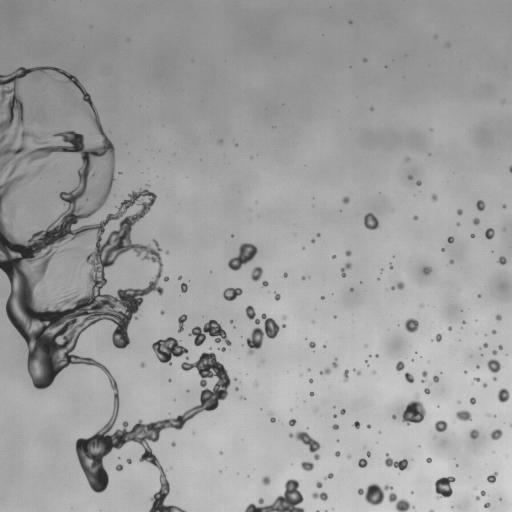droplet: (189, 319, 231, 346), (152, 337, 188, 364), (227, 243, 257, 270), (402, 394, 425, 425), (435, 476, 455, 499), (222, 287, 242, 301), (364, 213, 379, 230), (404, 318, 418, 332), (487, 359, 501, 373), (251, 266, 263, 281), (497, 388, 509, 402), (456, 410, 471, 421), (434, 420, 447, 432), (490, 429, 502, 440), (301, 461, 313, 471), (312, 492, 327, 500), (404, 372, 414, 383), (487, 472, 497, 483), (469, 429, 479, 439), (485, 228, 494, 239), (396, 361, 404, 372), (358, 458, 367, 467), (476, 200, 484, 210), (262, 476, 270, 485), (320, 367, 330, 374), (498, 256, 506, 264), (423, 267, 431, 274), (181, 283, 187, 292), (447, 236, 454, 243), (469, 397, 476, 404), (353, 421, 360, 428), (325, 473, 333, 479), (342, 197, 349, 203), (473, 218, 479, 225), (435, 334, 441, 341), (309, 341, 315, 348), (289, 419, 296, 425), (316, 481, 322, 488), (275, 292, 280, 300), (345, 250, 351, 256), (495, 314, 501, 320), (332, 424, 338, 430), (116, 464, 122, 470), (484, 502, 490, 508), (432, 194, 437, 201), (433, 375, 438, 382), (262, 281, 268, 286), (219, 346, 225, 351), (424, 388, 429, 394), (340, 408, 345, 414), (457, 209, 462, 214), (164, 276, 169, 281), (335, 451, 340, 456), (426, 457, 431, 462), (126, 458, 131, 463), (416, 181, 421, 185), (474, 377, 479, 381), (475, 496, 480, 500), (405, 157, 409, 161), (408, 175, 412, 179), (502, 204, 506, 208), (283, 273, 287, 277), (492, 330, 496, 334), (483, 343, 487, 347), (498, 345, 502, 349), (492, 350, 496, 354), (140, 363, 144, 367), (309, 379, 313, 383), (483, 383, 487, 387), (310, 392, 314, 396), (392, 415, 396, 419), (171, 442, 175, 446), (481, 491, 485, 495), (414, 215, 417, 220), (449, 260, 453, 263), (160, 311, 164, 314), (367, 424, 370, 428), (367, 452, 370, 456), (347, 455, 351, 458), (390, 264, 392, 269), (363, 58, 366, 61), (471, 234, 474, 237), (311, 239, 314, 242), (332, 255, 335, 258), (178, 276, 181, 279), (302, 276, 305, 279), (321, 296, 324, 299), (283, 316, 286, 319), (230, 320, 233, 323), (282, 324, 285, 327), (448, 327, 451, 330), (476, 365, 479, 368), (493, 377, 496, 380), (219, 140, 222, 142), (456, 223, 459, 225), (317, 233, 319, 236), (442, 248, 444, 251), (166, 251, 168, 254), (350, 288, 352, 291), (478, 294, 480, 297), (334, 315, 336, 318), (462, 321, 465, 323), (372, 371, 375, 373), (168, 379, 171, 381), (242, 396, 244, 399), (333, 415, 336, 417), (75, 101, 77, 103), (371, 107, 373, 109), (380, 270, 382, 272), (420, 305, 422, 307), (323, 345, 325, 347), (464, 371, 466, 373), (458, 401, 460, 403)
ligament: (0, 67, 224, 511), (244, 479, 305, 511), (357, 483, 413, 511), (246, 313, 280, 354), (289, 431, 320, 460), (384, 453, 408, 470), (245, 306, 260, 324), (178, 314, 187, 332), (341, 262, 351, 277), (33, 164, 45, 176), (391, 282, 404, 289), (343, 369, 348, 382), (422, 371, 427, 382), (270, 412, 275, 422), (332, 358, 337, 367), (353, 369, 360, 375), (91, 172, 96, 176), (509, 166, 511, 172), (429, 510, 433, 511), (324, 510, 327, 511)
